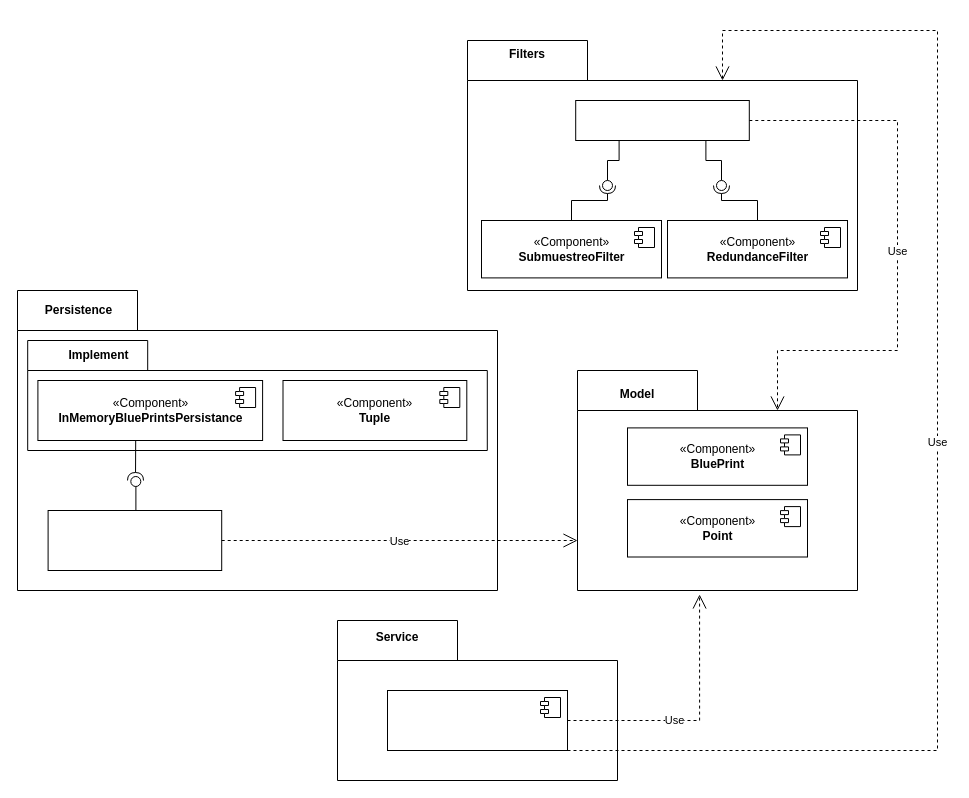
The diagram is 969 pixels wide and 798 high, and some of its shapes have lost their labels. Here are the shapes that lost their labels. From the top down, the centre of each, then its label:
At [662,120]: "«Interface» Filter".
At [134,540]: "«Interface» BlueprintPersistence".
At [477,720]: "«Component» BluePrintServices".
